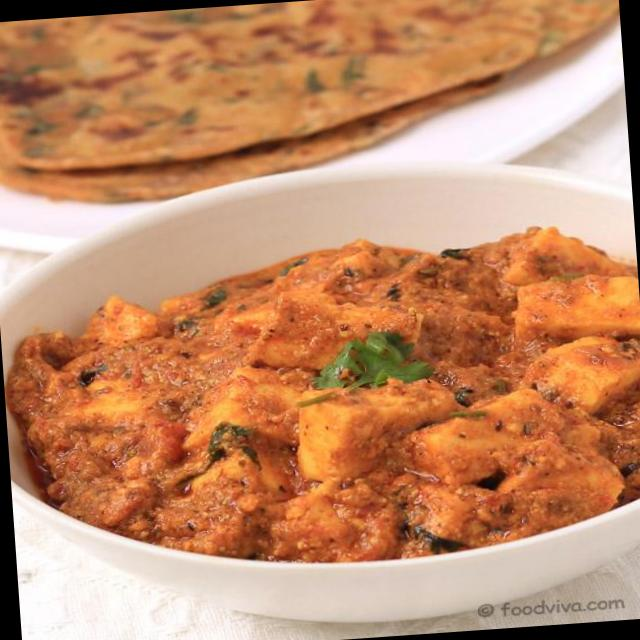roti: (0, 0, 607, 147)
